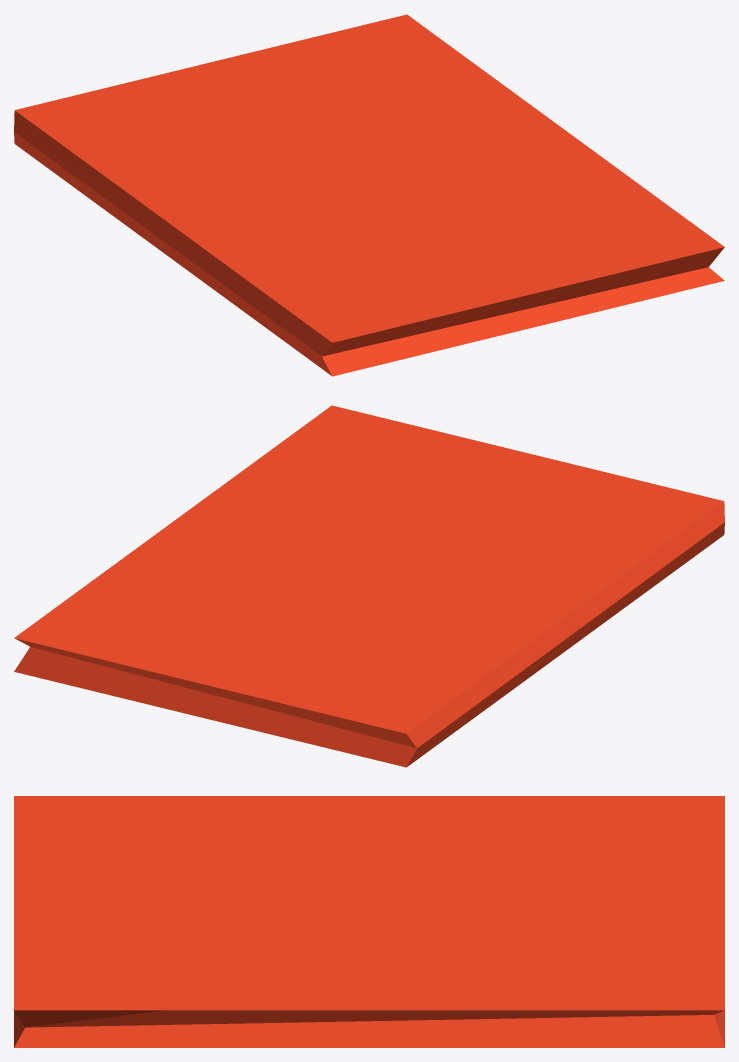
Rendered from SM_Newspaper_Hat_City.fbx.
3 renders of one model, top to bottom at view 1: azimuth 30°, elevation 25°; view 2: azimuth 150°, elevation 25°; view 3: azimuth 270°, elevation 25°, orthographic. The views are drawn at different scales.
Parts seen in each view (by area): view 1: SM_Newspaper_Hat_City; view 2: SM_Newspaper_Hat_City; view 3: SM_Newspaper_Hat_City.
Boxes of the visible parts, left/top/right/bottom form: SM_Newspaper_Hat_City: left=14, top=14, right=724, bottom=376; SM_Newspaper_Hat_City: left=14, top=405, right=724, bottom=767; SM_Newspaper_Hat_City: left=14, top=796, right=724, bottom=1047.
Size of the model in its own units: 0.2784 by 0.0225 by 0.385.
